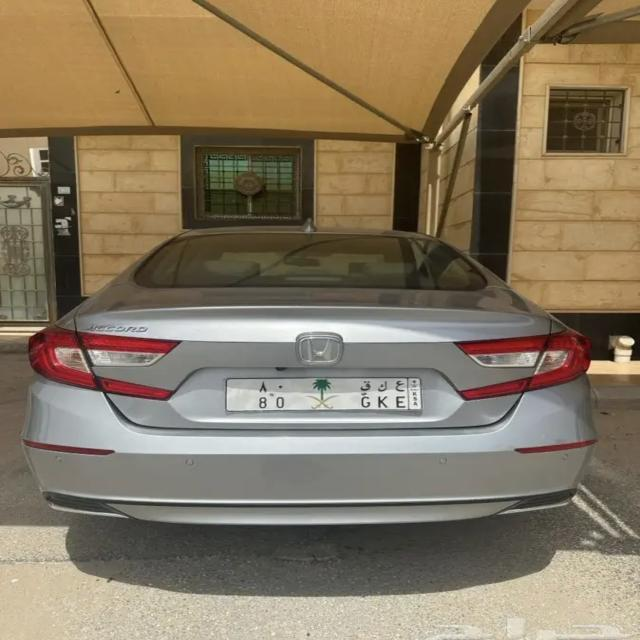license_plate: (223, 377, 425, 412)
